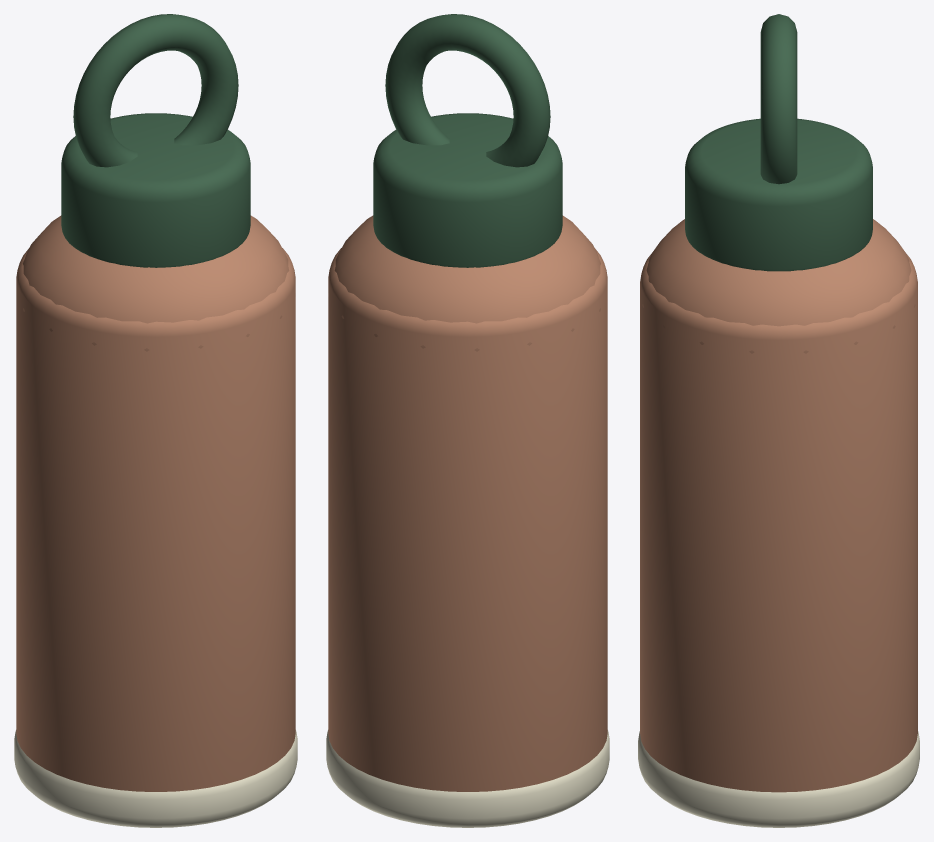
File: bottle-green.glb
3 views of the same model, side by side, from view 1: azimuth 30°, elevation 25°; view 2: azimuth 150°, elevation 25°; view 3: azimuth 270°, elevation 25° (orthographic).
Visible parts, largest first — view 1: Bottle, Cap, Shoulder, Carry loop, Foot; view 2: Bottle, Cap, Shoulder, Carry loop, Foot; view 3: Bottle, Cap, Shoulder, Foot, Carry loop.
Part boxes in pixels (x1,y1,x2,y2): Bottle: [16, 248, 295, 791]; Cap: [61, 113, 250, 267]; Shoulder: [23, 215, 295, 351]; Carry loop: [73, 14, 238, 167]; Foot: [14, 730, 297, 827]; Bottle: [328, 248, 607, 791]; Cap: [373, 113, 562, 267]; Shoulder: [328, 215, 600, 351]; Carry loop: [385, 14, 550, 167]; Foot: [326, 730, 609, 827]; Bottle: [640, 252, 917, 792]; Cap: [685, 118, 872, 271]; Shoulder: [642, 219, 915, 353]; Foot: [638, 731, 919, 827]; Carry loop: [760, 14, 797, 184].
Bounding box in the file's own units: 0.69 × 2.03 × 0.69.
